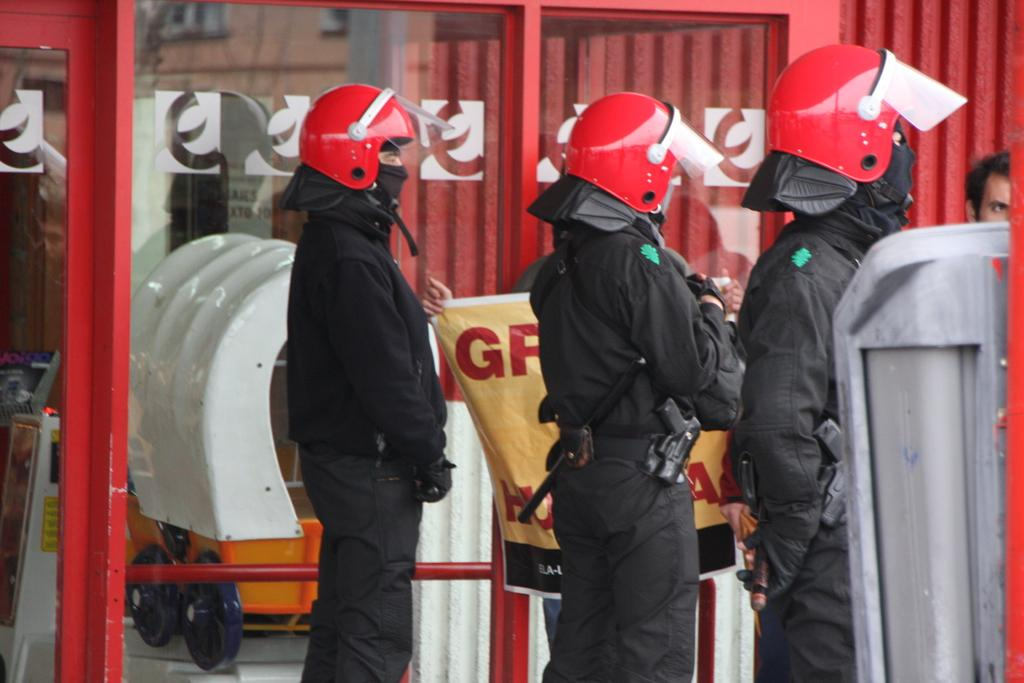helmet: (764, 44, 969, 183), (565, 91, 726, 214), (298, 83, 456, 192)
